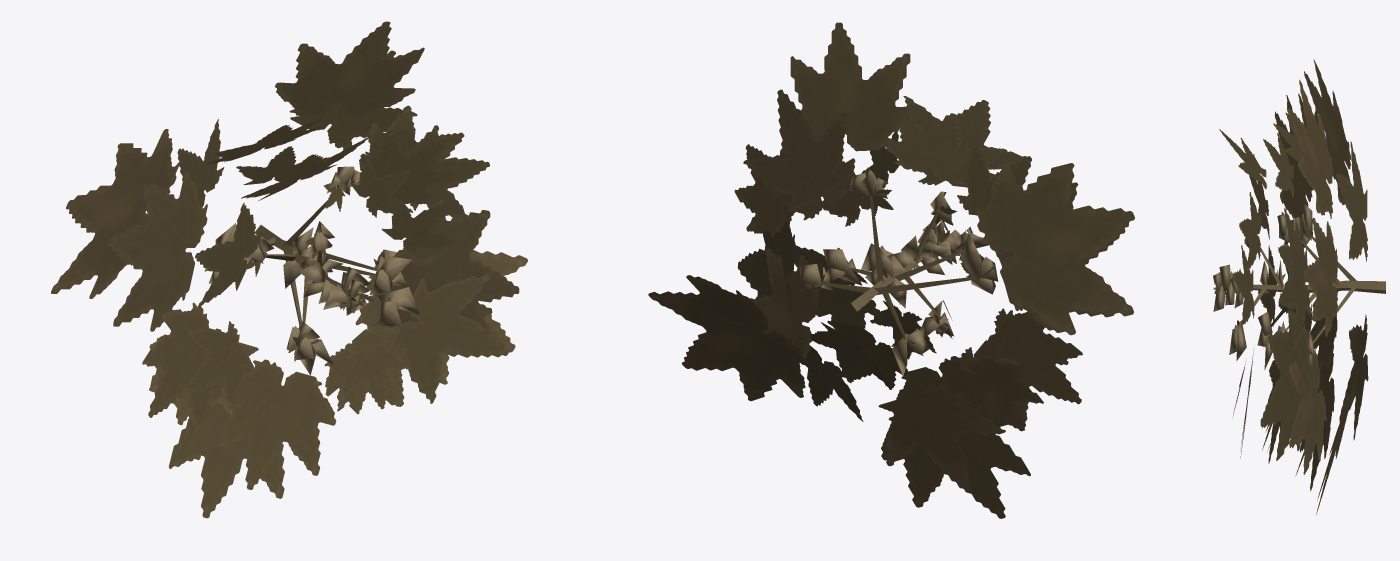
Rendered from p_male_kush_ripe_c4_cards.obj.
3 views of the same model, side by side, from view 1: azimuth 30°, elevation 25°; view 2: azimuth 150°, elevation 25°; view 3: azimuth 270°, elevation 25° (orthographic). The views are drawn at different scales.
Bounding box in the file's own units: 1.63 × 1.44 × 0.46.
Materials: 1 (1 with a texture image).
